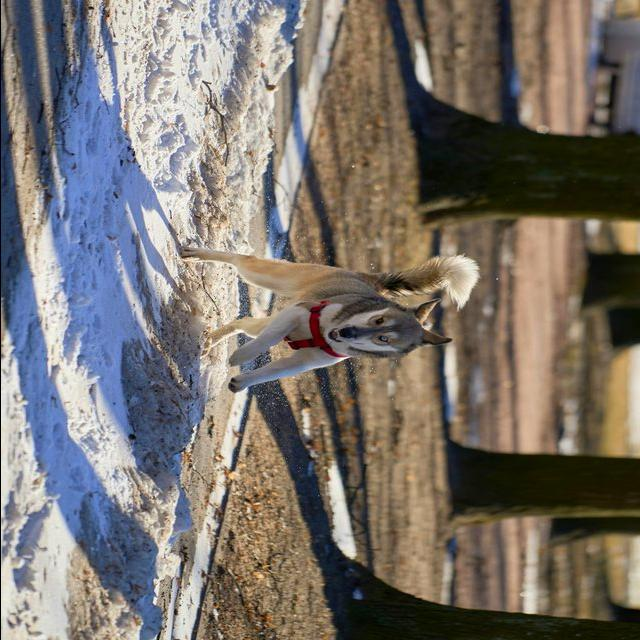husky: (179, 245, 480, 395)
